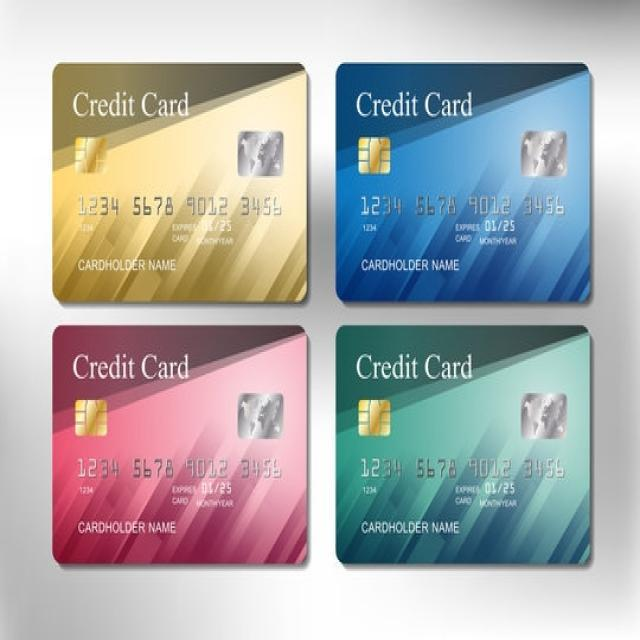payment_card: (333, 60, 593, 304), (334, 324, 592, 568), (51, 61, 308, 304), (50, 324, 308, 566)
